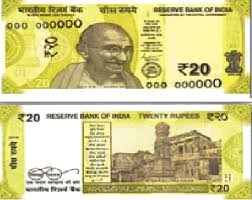twenty: (11, 16, 231, 81)
